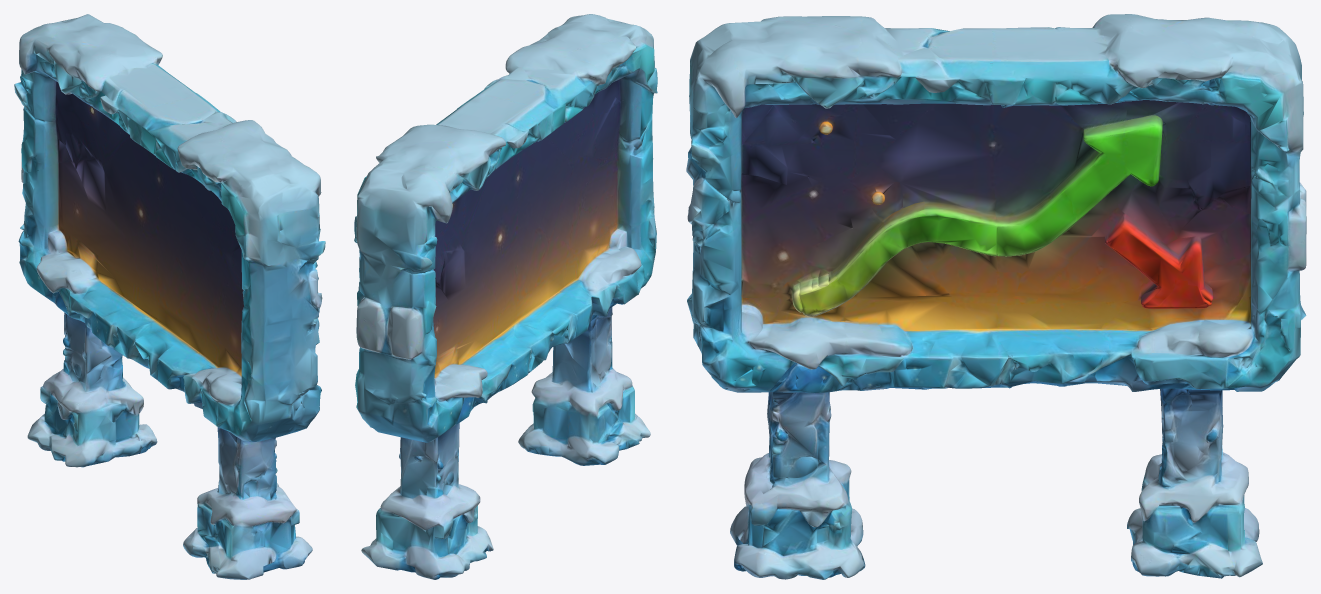
File: pv-odds-board-diet.glb
3 renders of one model, left to right at view 1: azimuth 30°, elevation 25°; view 2: azimuth 150°, elevation 25°; view 3: azimuth 270°, elevation 25°, orthographic. The views are drawn at different scales.
Visible parts, largest first — view 1: tripo_node_49c2b090-07c7-44c5-929e-7bbeed6d2db5; view 2: tripo_node_49c2b090-07c7-44c5-929e-7bbeed6d2db5; view 3: tripo_node_49c2b090-07c7-44c5-929e-7bbeed6d2db5.
Boxes of the visible parts, left/top/right/bottom form: tripo_node_49c2b090-07c7-44c5-929e-7bbeed6d2db5: left=14, top=14, right=325, bottom=579; tripo_node_49c2b090-07c7-44c5-929e-7bbeed6d2db5: left=354, top=14, right=657, bottom=579; tripo_node_49c2b090-07c7-44c5-929e-7bbeed6d2db5: left=686, top=14, right=1306, bottom=579.
Bounding box in the file's own units: 0.2307 × 0.9098 × 0.9792.
Materials: 1 (1 with a texture image).
